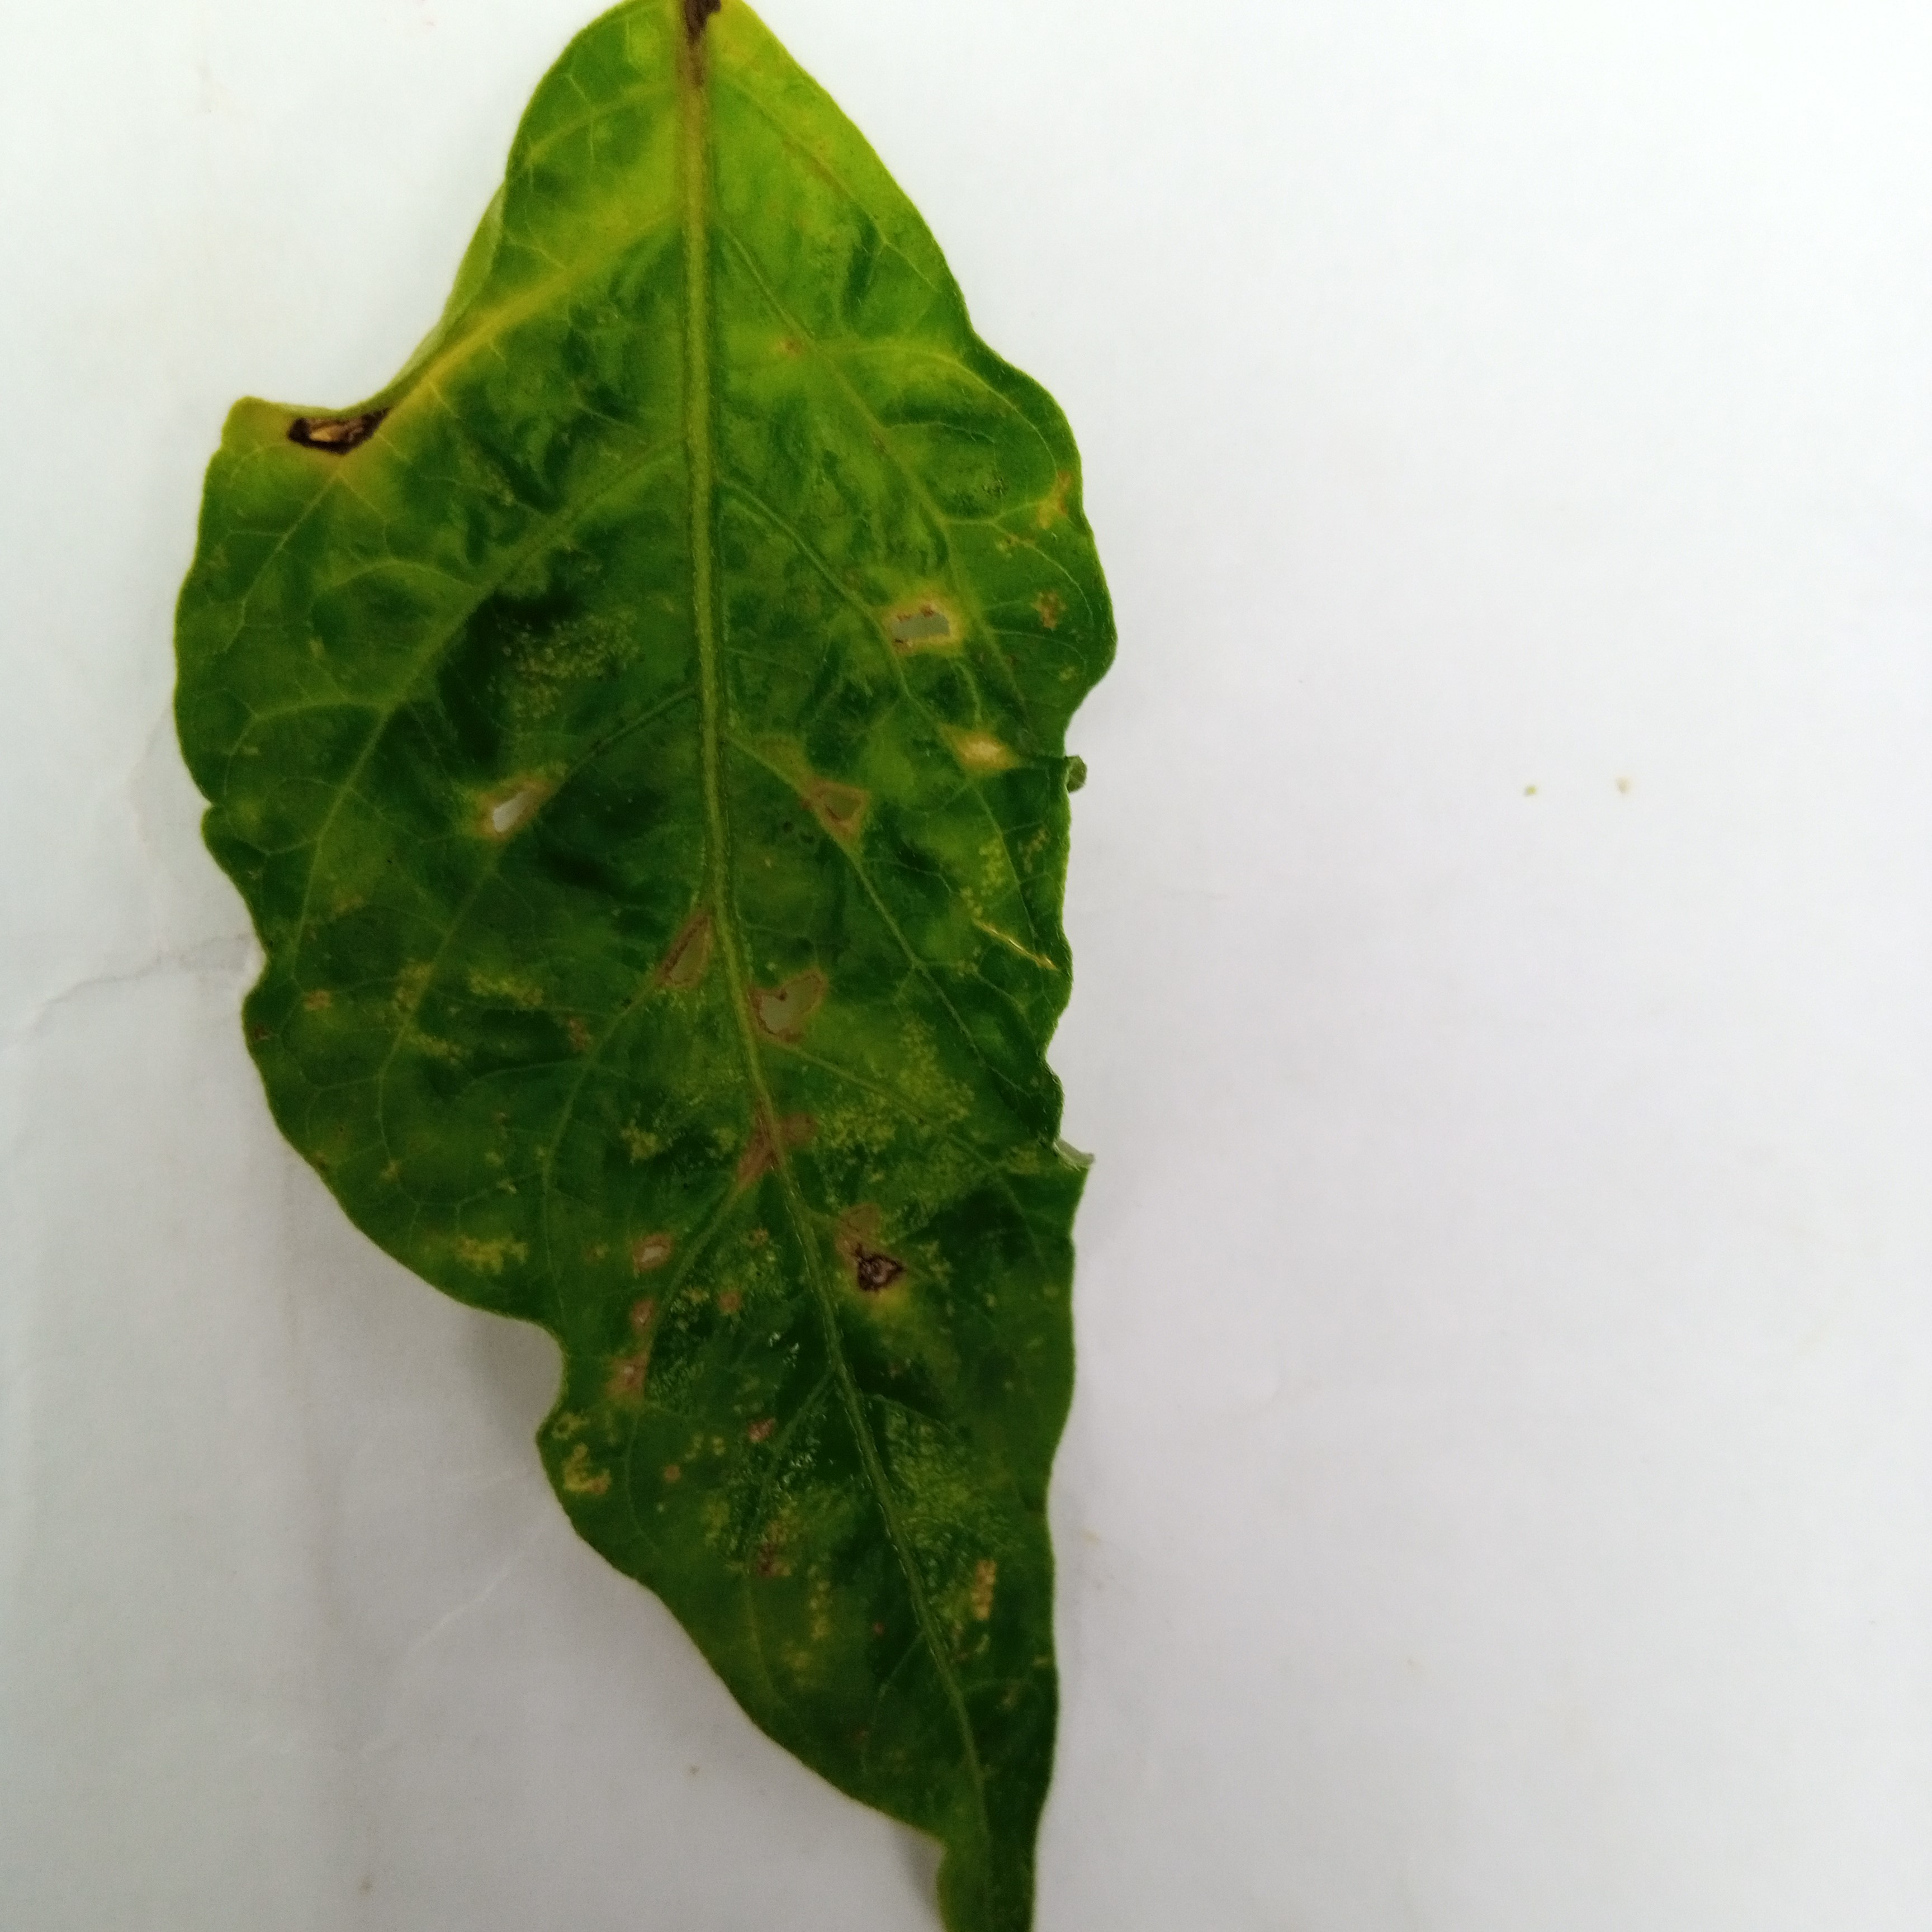Leaf: (127, 12, 1407, 1932)
